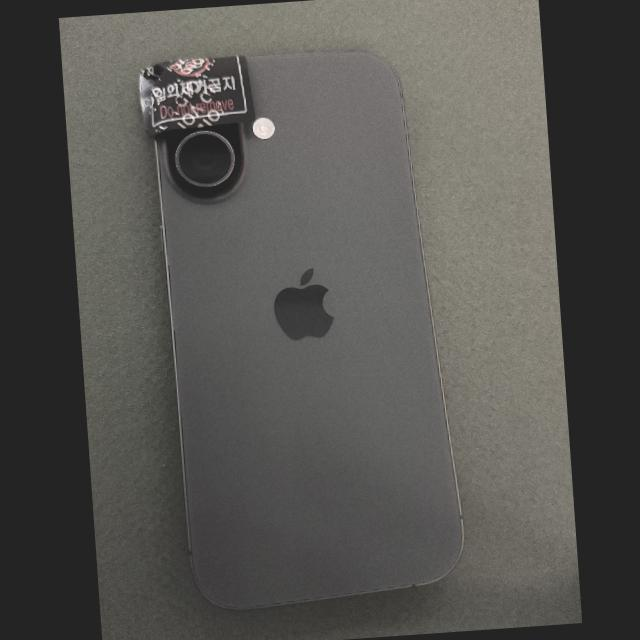lens: (178, 132, 233, 184)
phone: (150, 51, 464, 612)
sticker: (139, 55, 255, 140)
